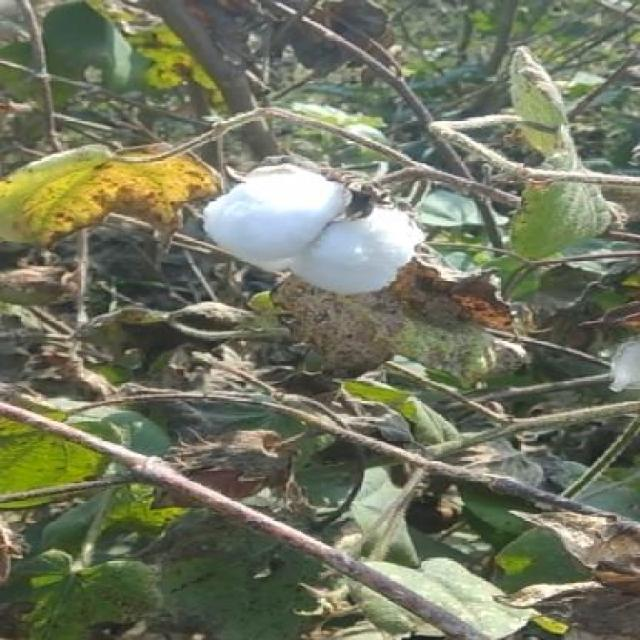cotton_ready: (174, 162, 441, 286)
